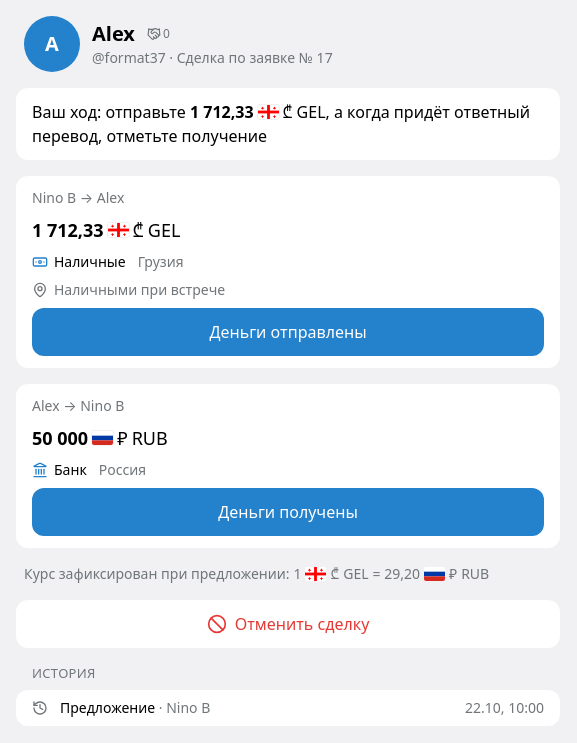
Test: the deal card › confirms a receipt before anything was marked sent, and says so in the journal
Step 1. Click the button "Деньги получены" → (288, 512), box [32,488,544,536]
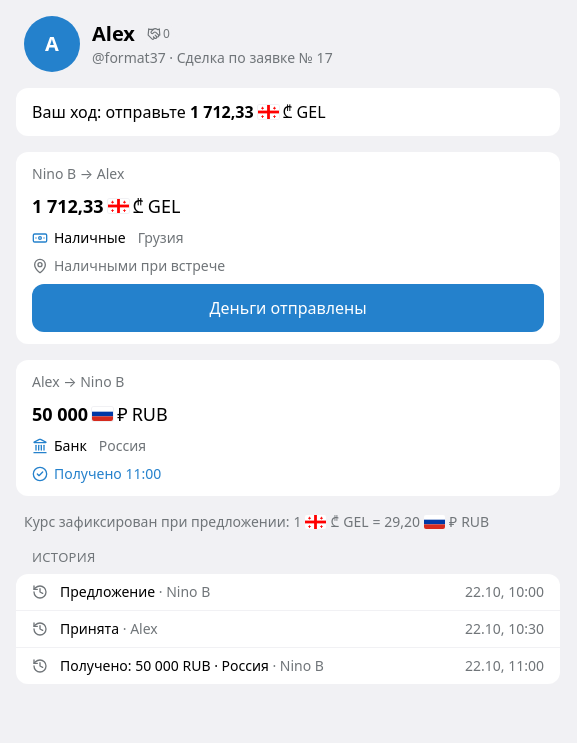
Check: the text "Получено: 50 000 RUB · Россия · Nino B" is shown, box [60,656,324,674]
